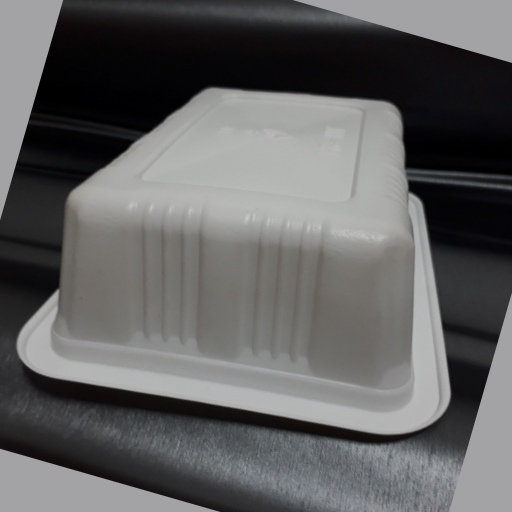Plastic_4: (17, 87, 452, 441)
